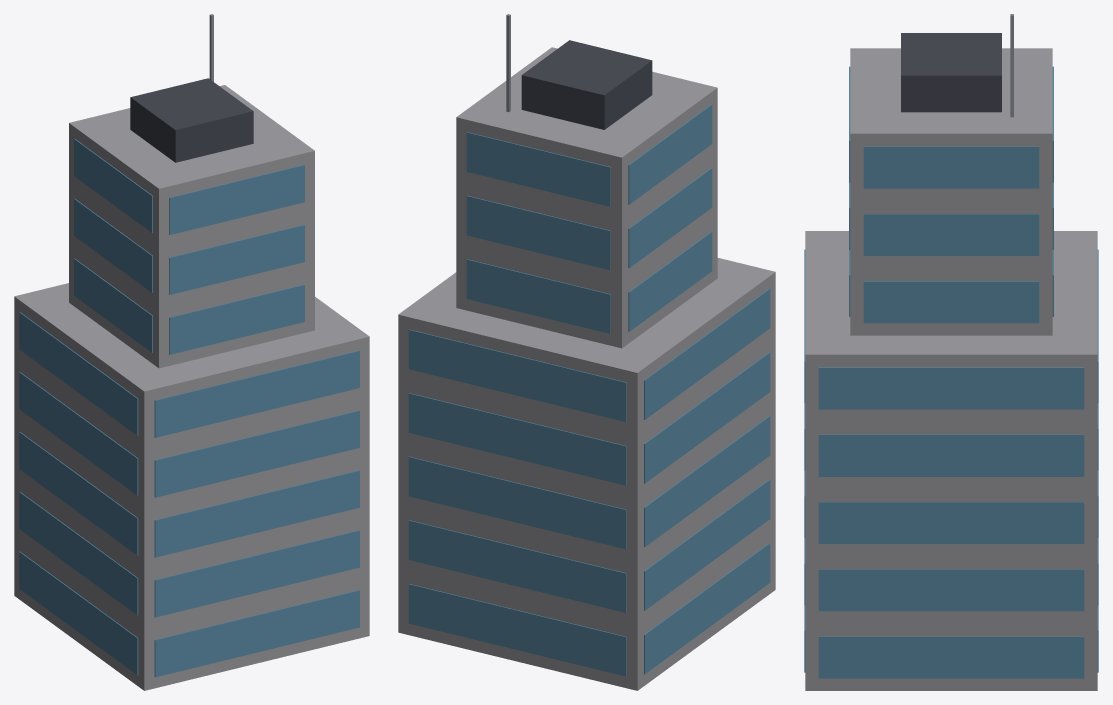
File: highrise_c.obj
3 renders of one model, left to right at view 1: azimuth 30°, elevation 25°; view 2: azimuth 150°, elevation 25°; view 3: azimuth 270°, elevation 25°, orthographic. The views are drawn at different scales.
Visible parts, largest first — view 1: Cube; view 2: Cube; view 3: Cube.
Boxes of the visible parts, <box> form: Cube: <box>14,14,369,690</box>; Cube: <box>398,14,775,690</box>; Cube: <box>804,14,1098,690</box>.
Bounding box in the file's own units: 13.1 × 31.4 × 13.1.
